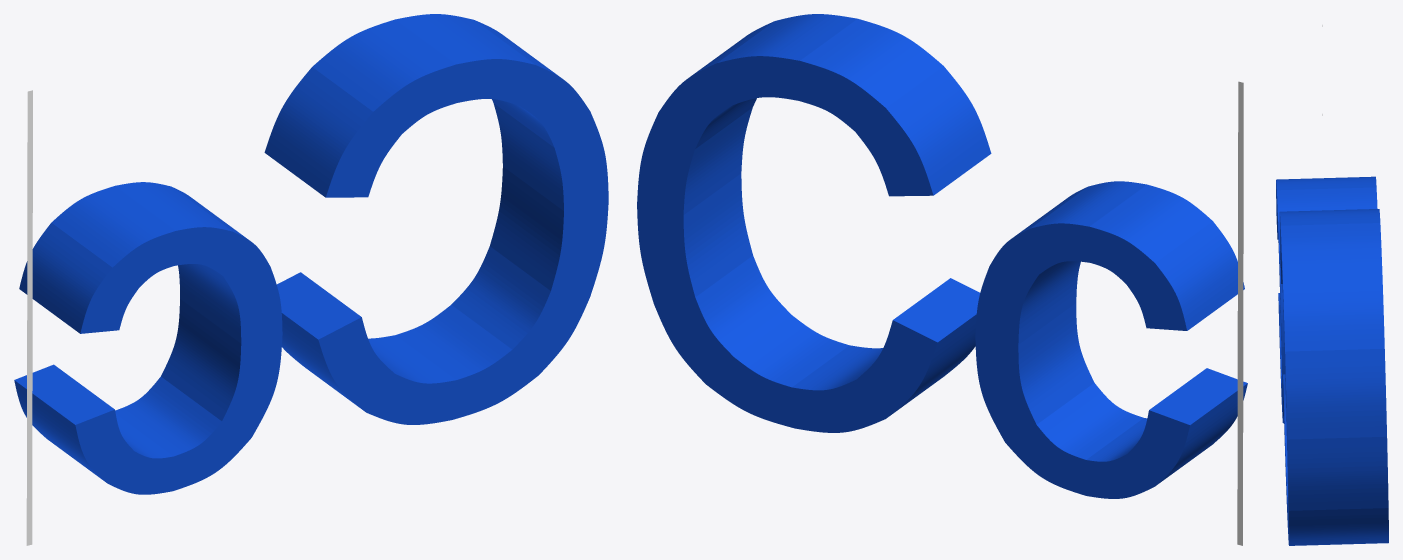
3 views of the same model, side by side, from view 1: azimuth 30°, elevation 25°; view 2: azimuth 150°, elevation 25°; view 3: azimuth 270°, elevation 25° (orthographic). The views are drawn at different scales.
Parts seen in each view (by area): view 1: Mesh_0.023, Плоскость; view 2: Mesh_0.023, Плоскость; view 3: Mesh_0.023.
Boxes of the visible parts, <box> form: Mesh_0.023: <box>14,14,608,494</box>; Плоскость: <box>26,90,32,545</box>; Mesh_0.023: <box>637,14,1247,498</box>; Плоскость: <box>1237,81,1243,545</box>; Mesh_0.023: <box>1276,176,1388,545</box>.
Bounding box in the file's own units: 12.1 × 9.38 × 2.5.
